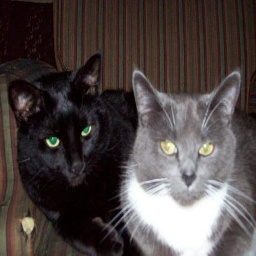cat: (13, 59, 256, 256)
